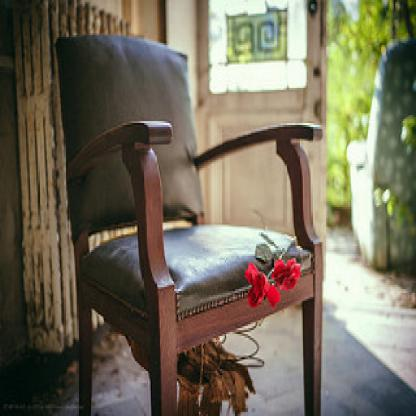Rose-Mawar: (239, 245, 301, 312)
